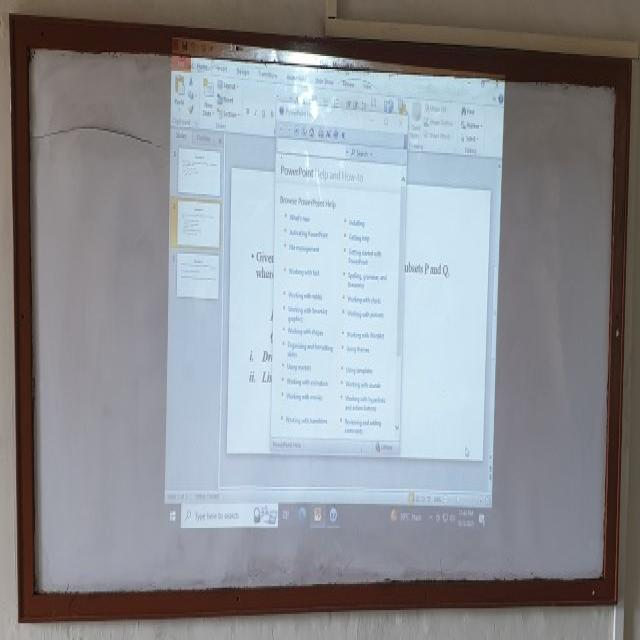Slide: (162, 36, 504, 539)
White-board: (22, 27, 625, 608)
